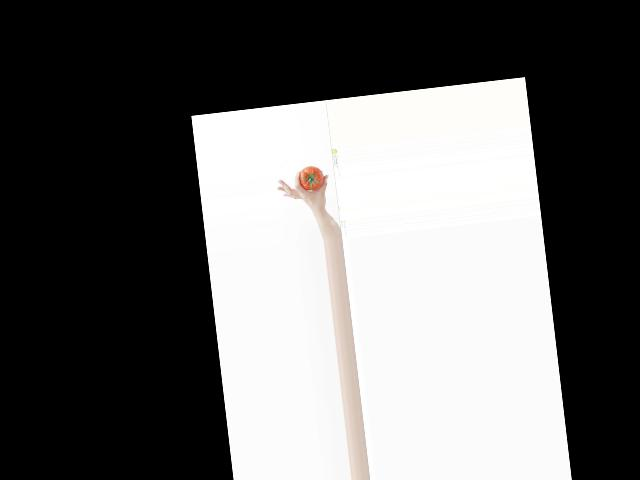tomato: (298, 165, 325, 192)
